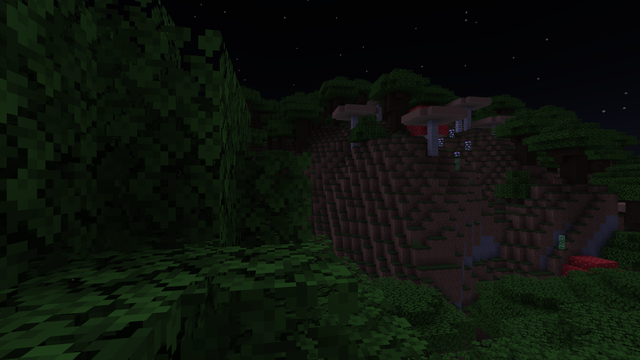creepers: (557, 234, 566, 248), (454, 158, 460, 170)
